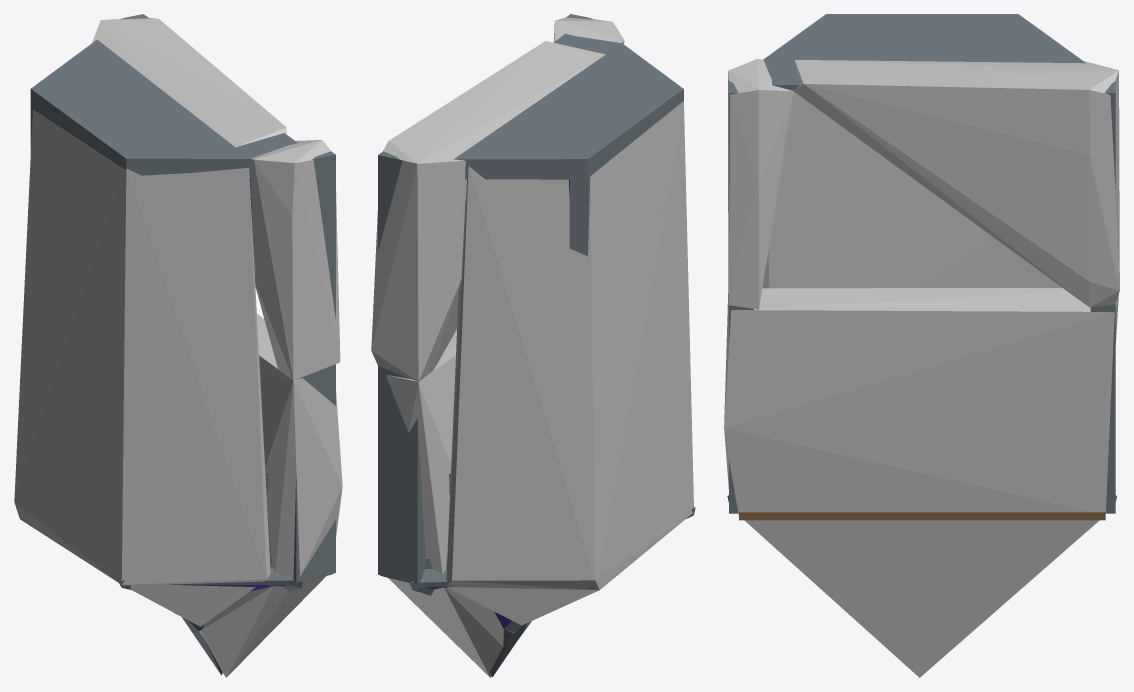
File: SM_Bld_Window_Box_01.fbx
3 views of the same model, side by side, from view 1: azimuth 30°, elevation 25°; view 2: azimuth 150°, elevation 25°; view 3: azimuth 270°, elevation 25° (orthographic).
Visible parts, largest first — view 1: SM_Bld_Window_Box_01_ConvexHulls, SM_Bld_Window_Box_01; view 2: SM_Bld_Window_Box_01_ConvexHulls, SM_Bld_Window_Box_01; view 3: SM_Bld_Window_Box_01_ConvexHulls, SM_Bld_Window_Box_01.
Boxes of the visible parts, x1,y1,x2,y2 form: SM_Bld_Window_Box_01_ConvexHulls: (14, 18, 342, 677); SM_Bld_Window_Box_01: (30, 14, 335, 675); SM_Bld_Window_Box_01_ConvexHulls: (371, 17, 693, 677); SM_Bld_Window_Box_01: (378, 14, 695, 676); SM_Bld_Window_Box_01_ConvexHulls: (724, 58, 1119, 677); SM_Bld_Window_Box_01: (727, 14, 1116, 520).
Size of the model in its own units: 133 by 256 by 426.
Materials: 3 (2 with a texture image).
